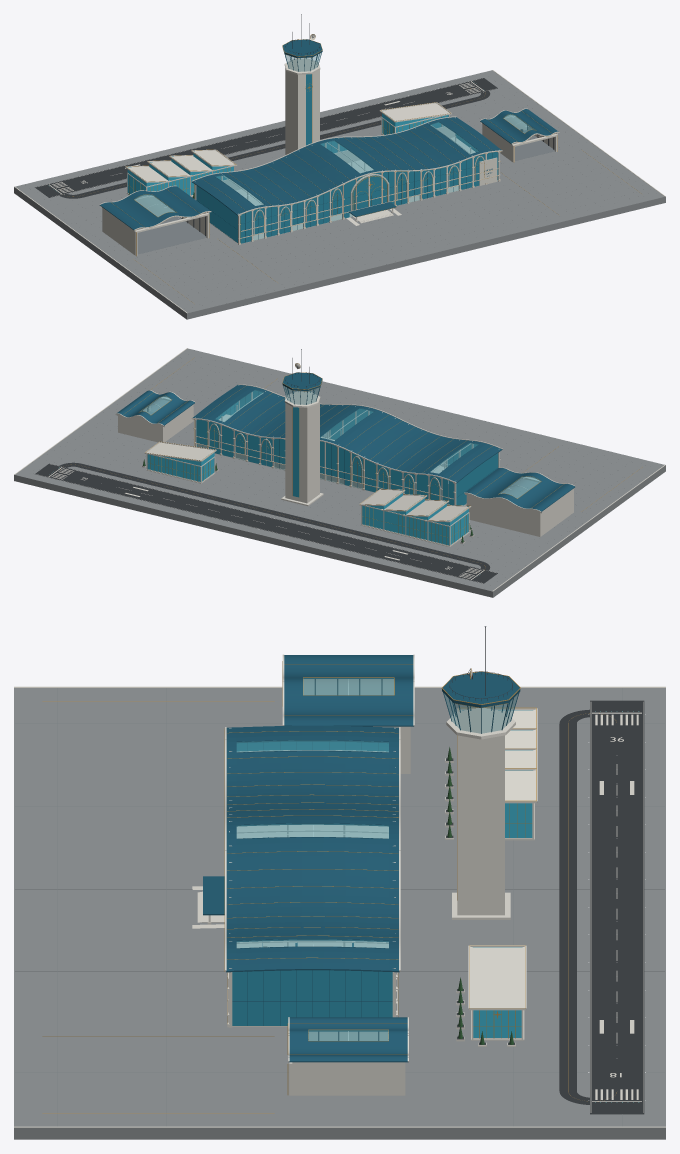
File: Horizon.glb
The picture shows the model from 3 angles, top to bottom: view 1: azimuth 30°, elevation 25°; view 2: azimuth 150°, elevation 25°; view 3: azimuth 270°, elevation 25°; orthographic projection. The views are drawn at different scales.
Visible parts, largest first — view 1: GW Paving, GW Teal, GW Ivory, GW Glass Dark, GW Runway Asphalt, GW Gold, GW Glass Highlight, GW Joint, GW Hall Glass, GW Glass; view 2: GW Paving, GW Ivory, GW Teal, GW Runway Asphalt, GW Glass Dark, GW Hall Glass, GW Gold, GW Glass Highlight, GW Glass; view 3: GW Paving, GW Teal, GW Ivory, GW Runway Asphalt, GW Glass Dark, GW Glass Highlight, GW Gold, GW Joint, GW Hall Glass, GW Glass.
Boxes of the visible parts, left/top/right/bottom form: GW Paving: left=14, top=70, right=665, bottom=319; GW Teal: left=99, top=39, right=558, bottom=242; GW Ivory: left=14, top=34, right=665, bottom=313; GW Glass Dark: left=196, top=74, right=498, bottom=243; GW Runway Asphalt: left=35, top=78, right=497, bottom=198; GW Gold: left=72, top=34, right=641, bottom=302; GW Glass Highlight: left=134, top=114, right=534, bottom=216; GW Joint: left=29, top=80, right=628, bottom=294; GW Hall Glass: left=127, top=111, right=448, bottom=195; GW Glass: left=253, top=53, right=497, bottom=240; GW Paving: left=14, top=348, right=665, bottom=597; GW Ivory: left=14, top=348, right=665, bottom=591; GW Teal: left=117, top=372, right=575, bottom=511; GW Runway Asphalt: left=35, top=462, right=497, bottom=583; GW Glass Dark: left=196, top=390, right=498, bottom=505; GW Hall Glass: left=147, top=452, right=468, bottom=545; GW Gold: left=60, top=357, right=642, bottom=569; GW Glass Highlight: left=140, top=389, right=540, bottom=498; GW Glass: left=196, top=386, right=362, bottom=488; GW Paving: left=14, top=688, right=665, bottom=1139; GW Teal: left=203, top=655, right=520, bottom=1062; GW Ivory: left=14, top=654, right=665, bottom=1127; GW Runway Asphalt: left=559, top=700, right=644, bottom=1114; GW Glass Dark: left=232, top=741, right=392, bottom=1025; GW Glass Highlight: left=236, top=678, right=393, bottom=1040; GW Gold: left=42, top=661, right=616, bottom=1113; GW Joint: left=15, top=688, right=664, bottom=1126; GW Hall Glass: left=462, top=710, right=532, bottom=1037; GW Glass: left=444, top=694, right=518, bottom=733.
Bounding box in the file's own units: 960 × 297 × 600.
